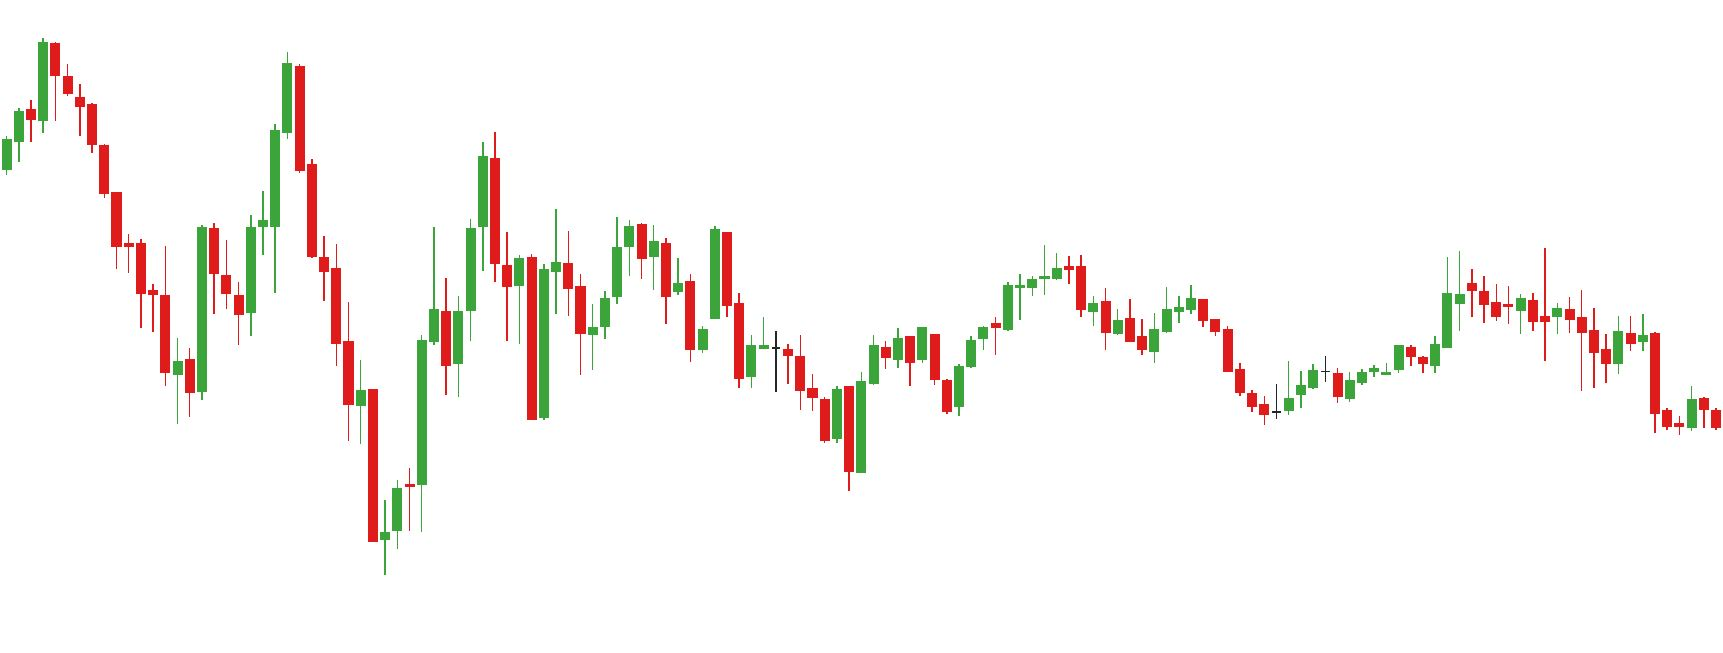buy: (169, 221, 365, 458)
